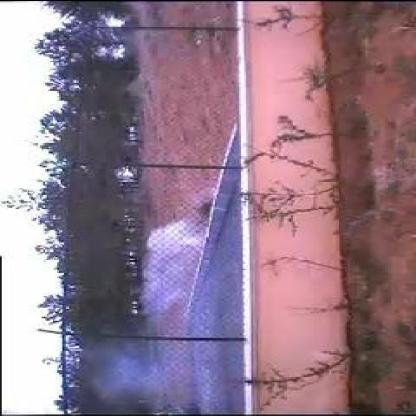-: (106, 192, 240, 380)
